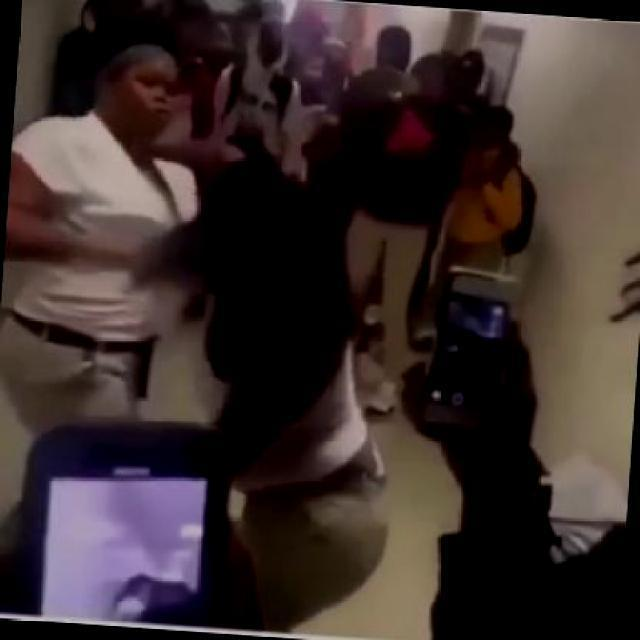fight: (0, 6, 378, 435)
